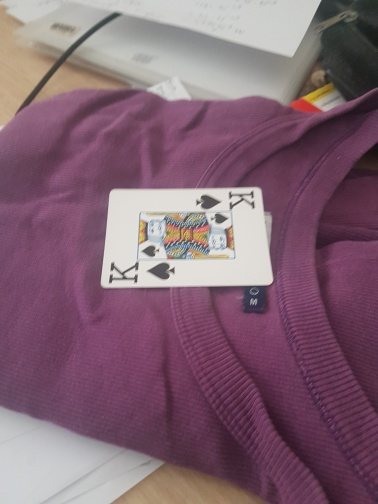king: (100, 185, 273, 287)
